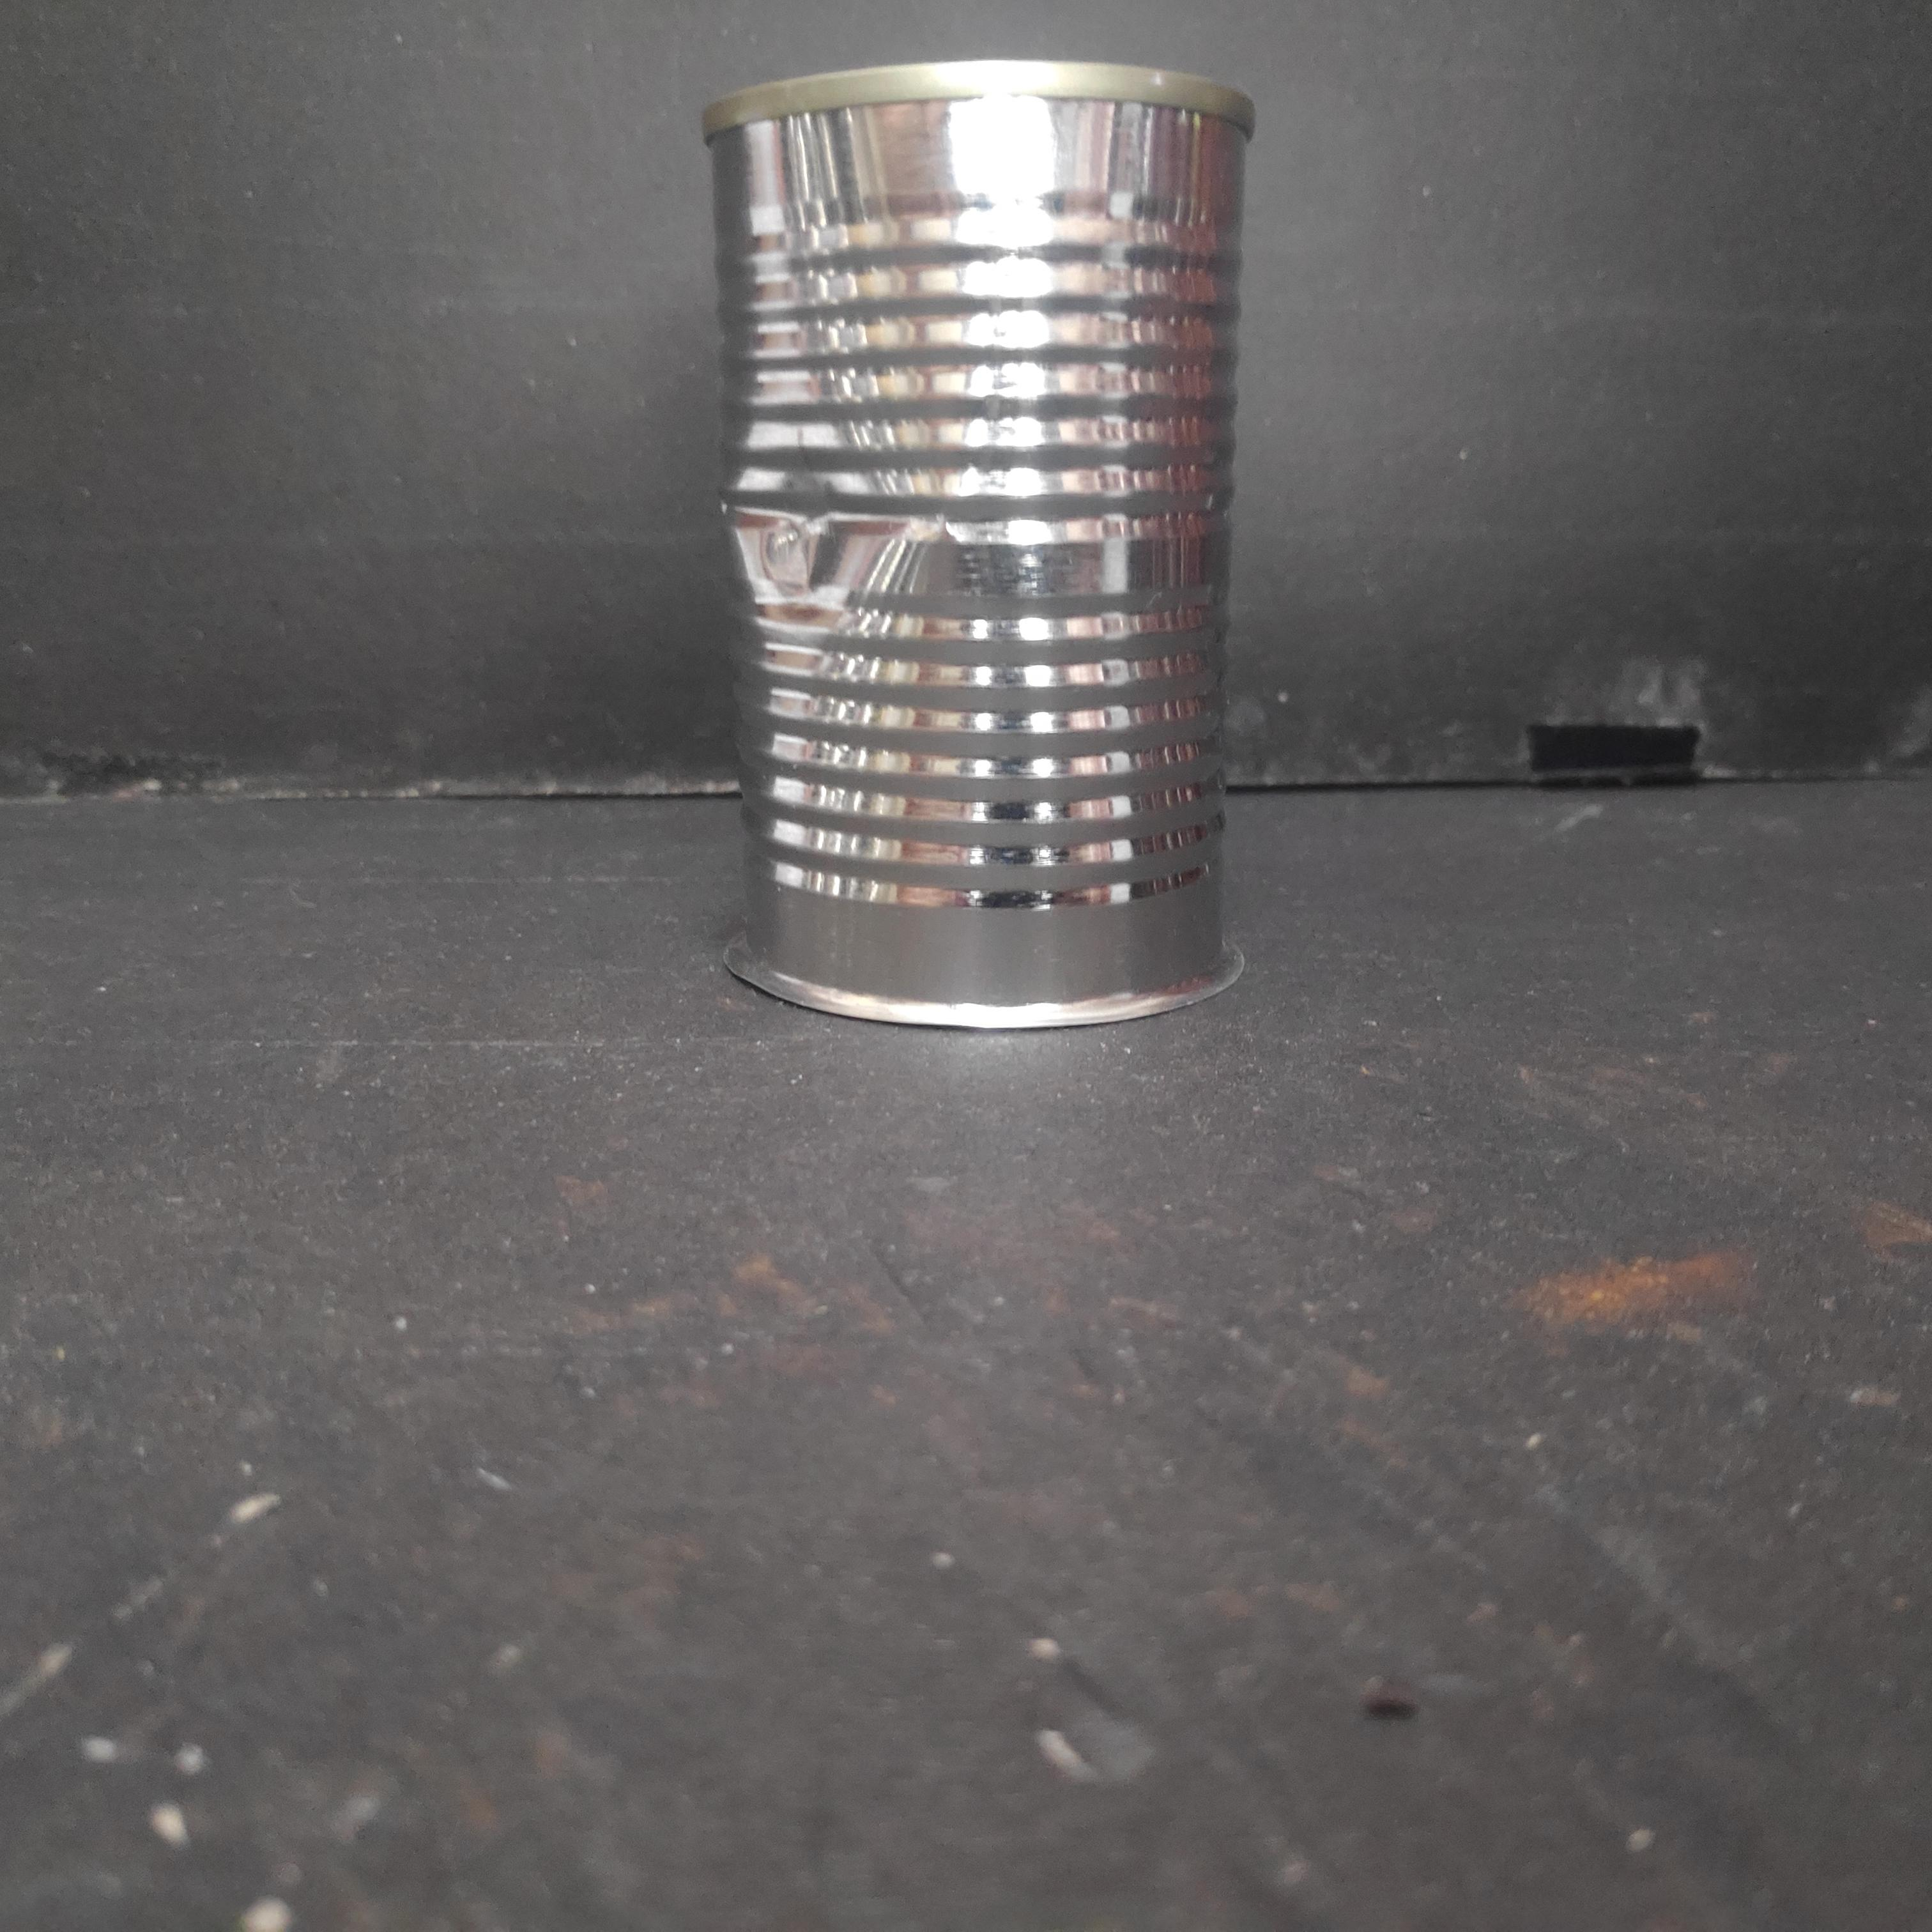Minor Defect: (692, 51, 1261, 1047)
